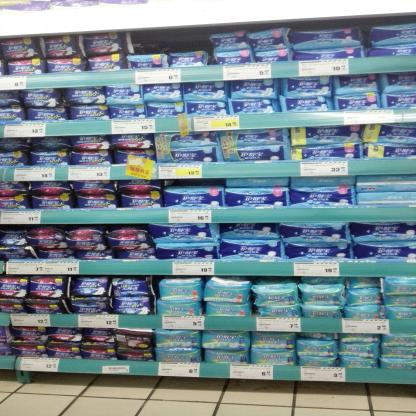Void: (140, 32, 202, 53)
